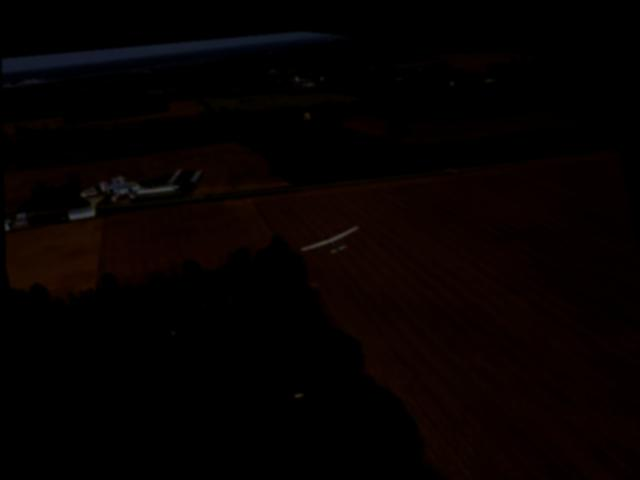uav: (289, 200, 370, 265)
